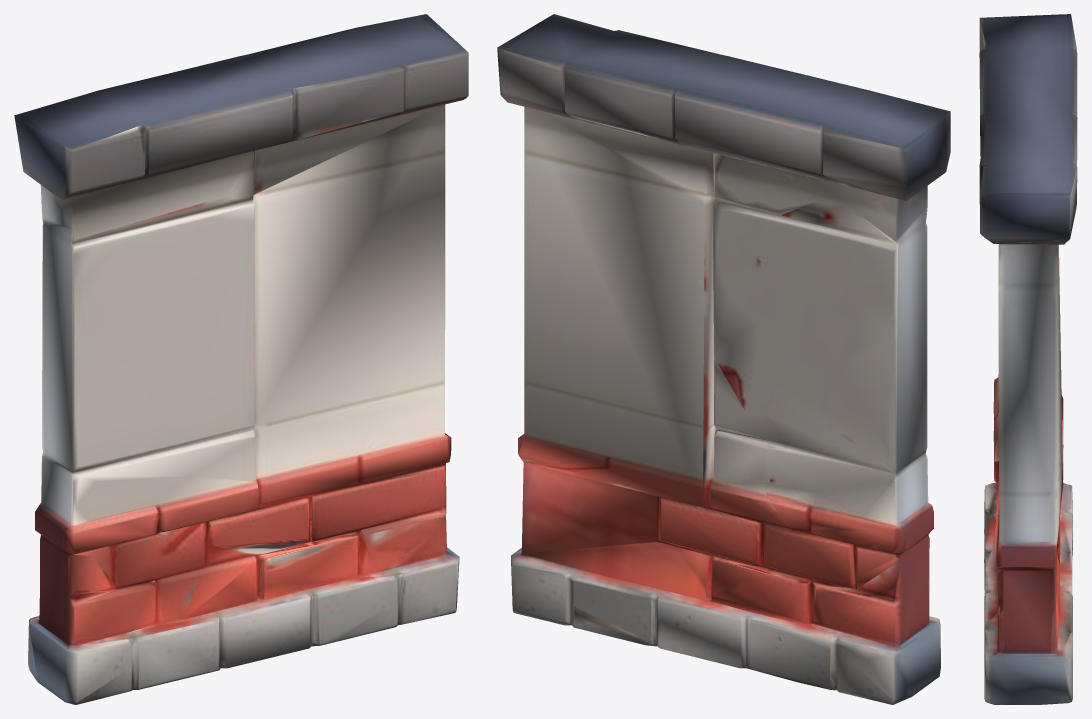
The model's file is qiang.glb.
3 views of the same model, side by side, from view 1: azimuth 30°, elevation 25°; view 2: azimuth 150°, elevation 25°; view 3: azimuth 270°, elevation 25° (orthographic). The views are drawn at different scales.
Visible parts, largest first — view 1: node_0; view 2: node_0; view 3: node_0.
Boxes of the visible parts, x1=… form: node_0: x1=14, y1=14, x2=468, y2=704; node_0: x1=497, y1=14, x2=950, y2=704; node_0: x1=979, y1=14, x2=1077, y2=704.
Bounding box in the file's own units: 0.7289 × 0.9543 × 0.1641.
1 material, 1 textured.
